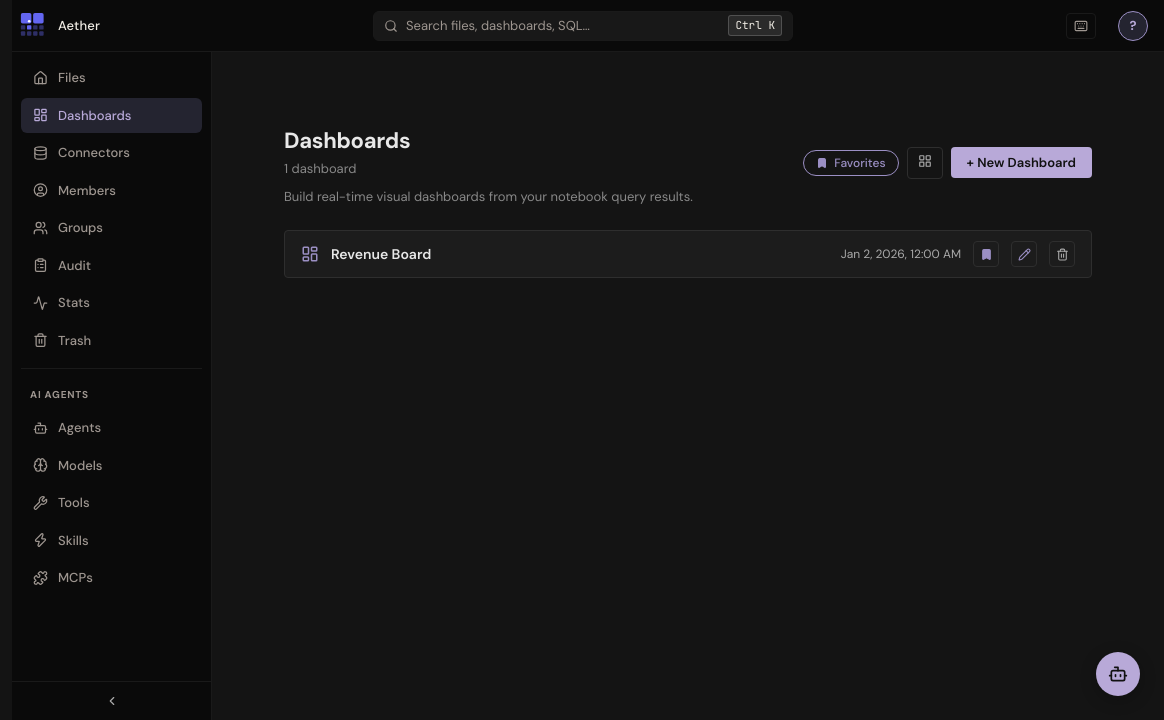
DashboardsPage favorites filter (F3) › un-favoriting removes the row while the request is still pending
What coordinates should you click on to do the following:
click the button named "Remove from favorites"
I would click on:
 (986, 254)
Its box is [973,241,999,267].
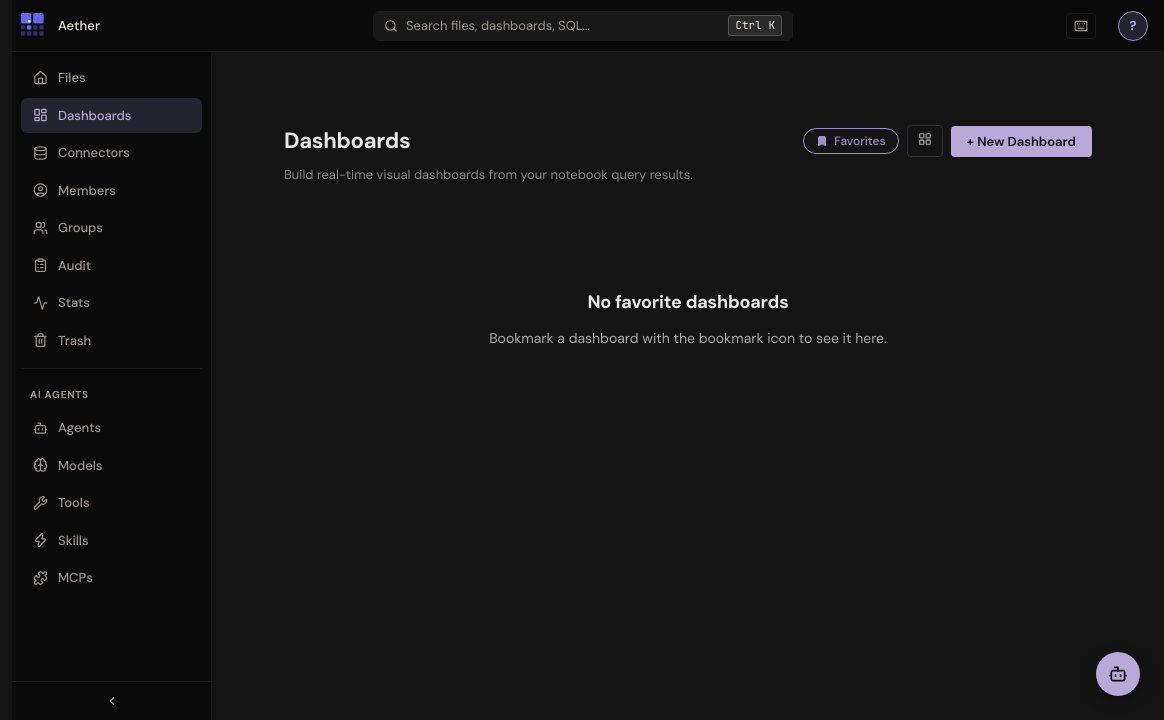
Check: the link "Revenue Board" is gone
Check: the text "No favorite dashboards" is shown, box [587,288,789,316]
